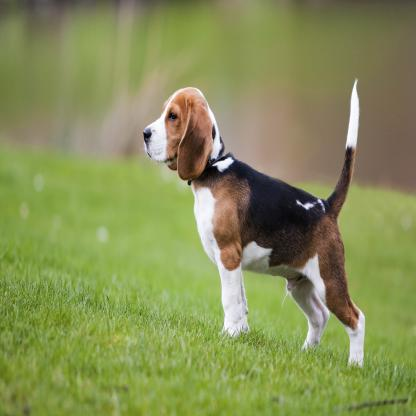Bigl: (141, 62, 369, 370)
